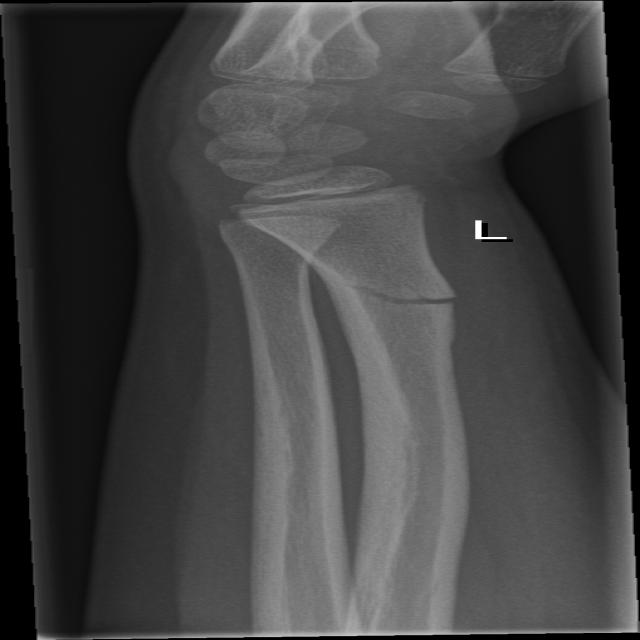radius fracture: (323, 247, 493, 382)
